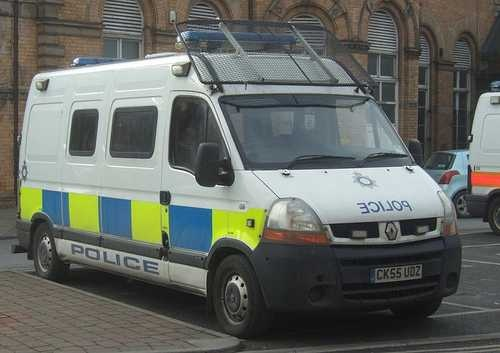Police Car: (3, 51, 464, 335)
